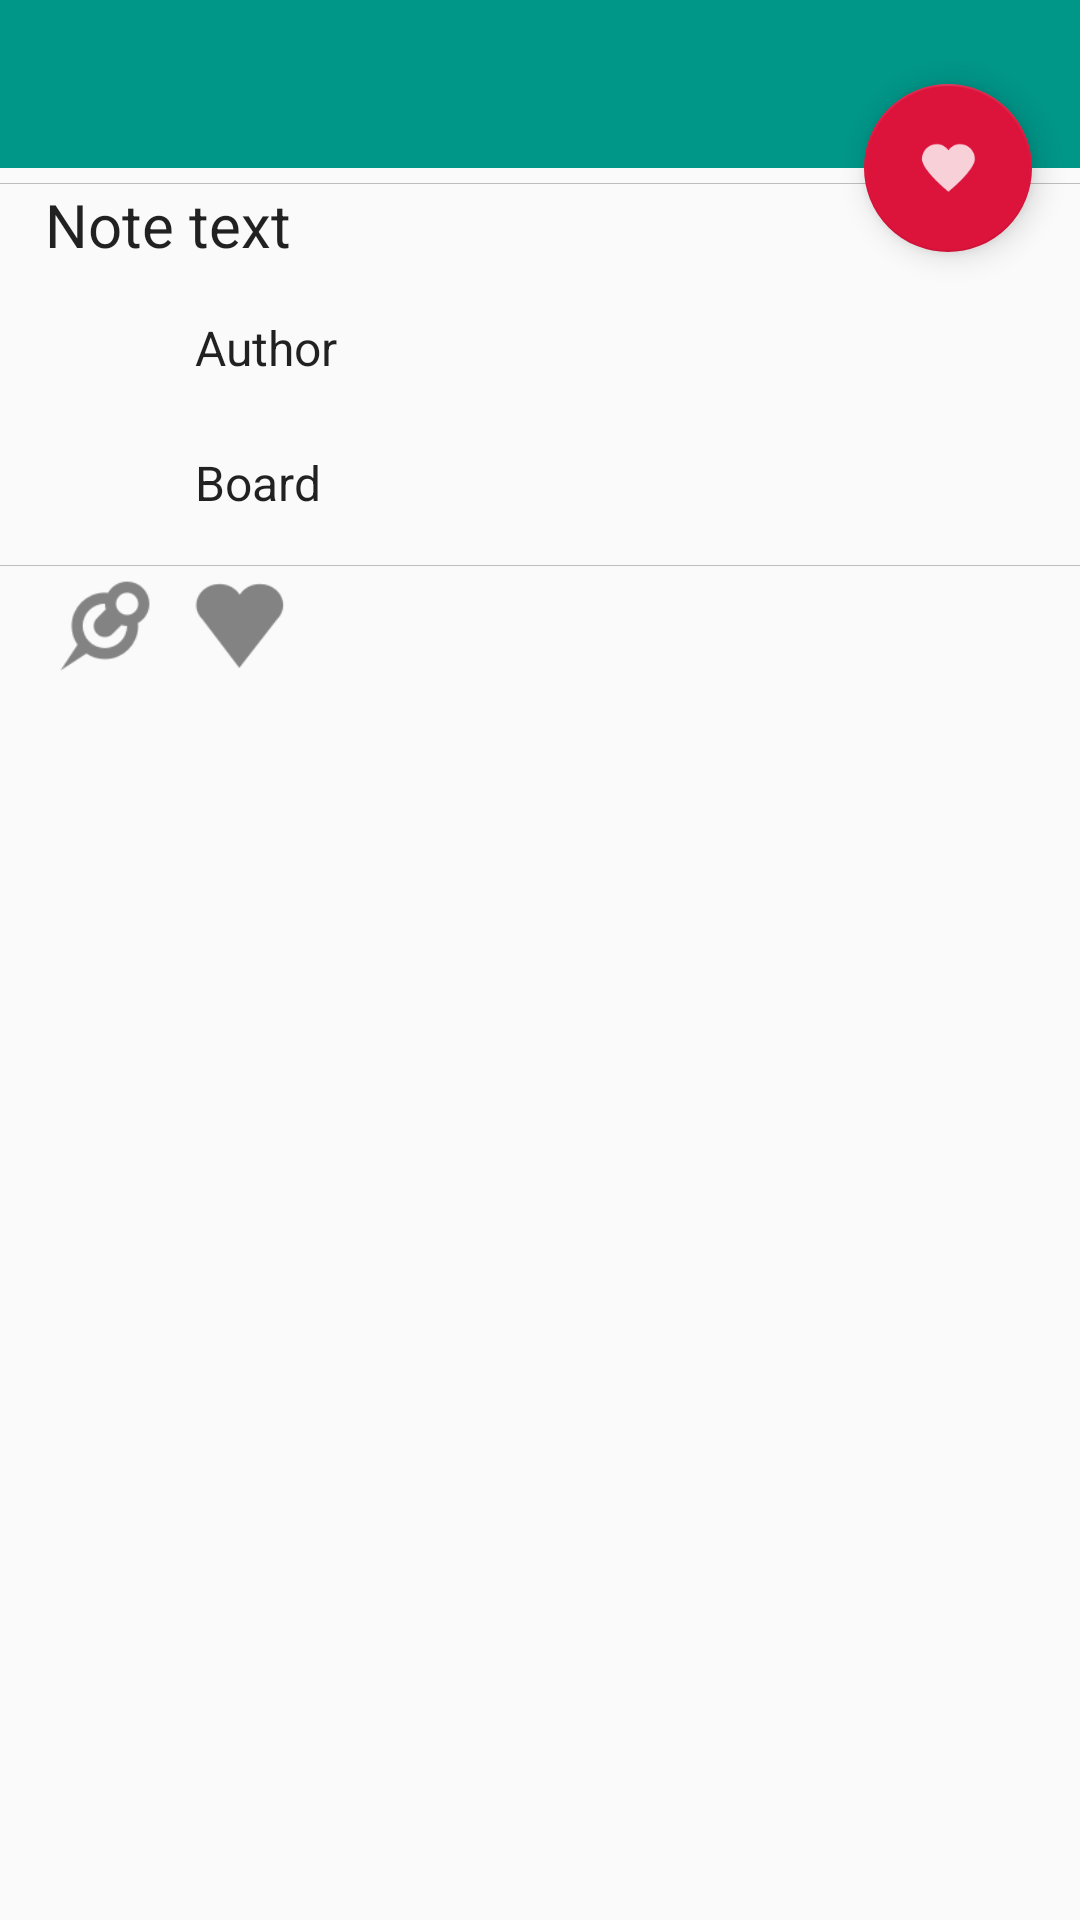

Named icons in this screenshot (1080*1920) and their centers, point (x, y):
hearth: point (948, 168)
like: point (240, 626)
pins: point (105, 625)
